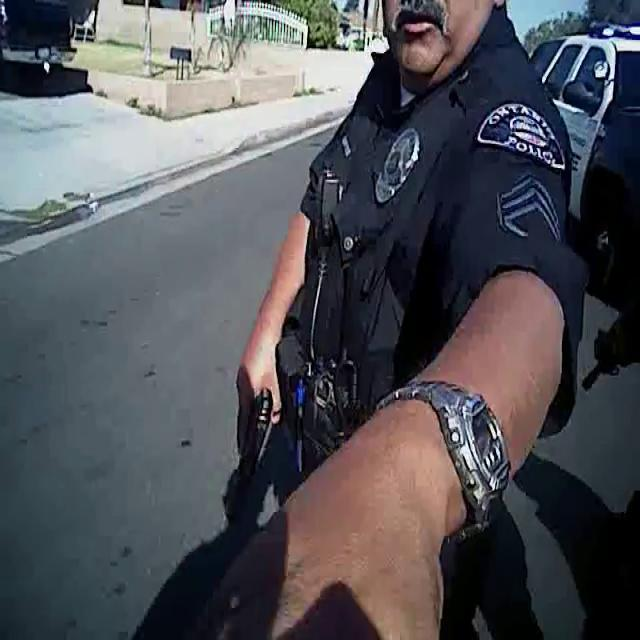gun: (217, 365, 293, 547)
